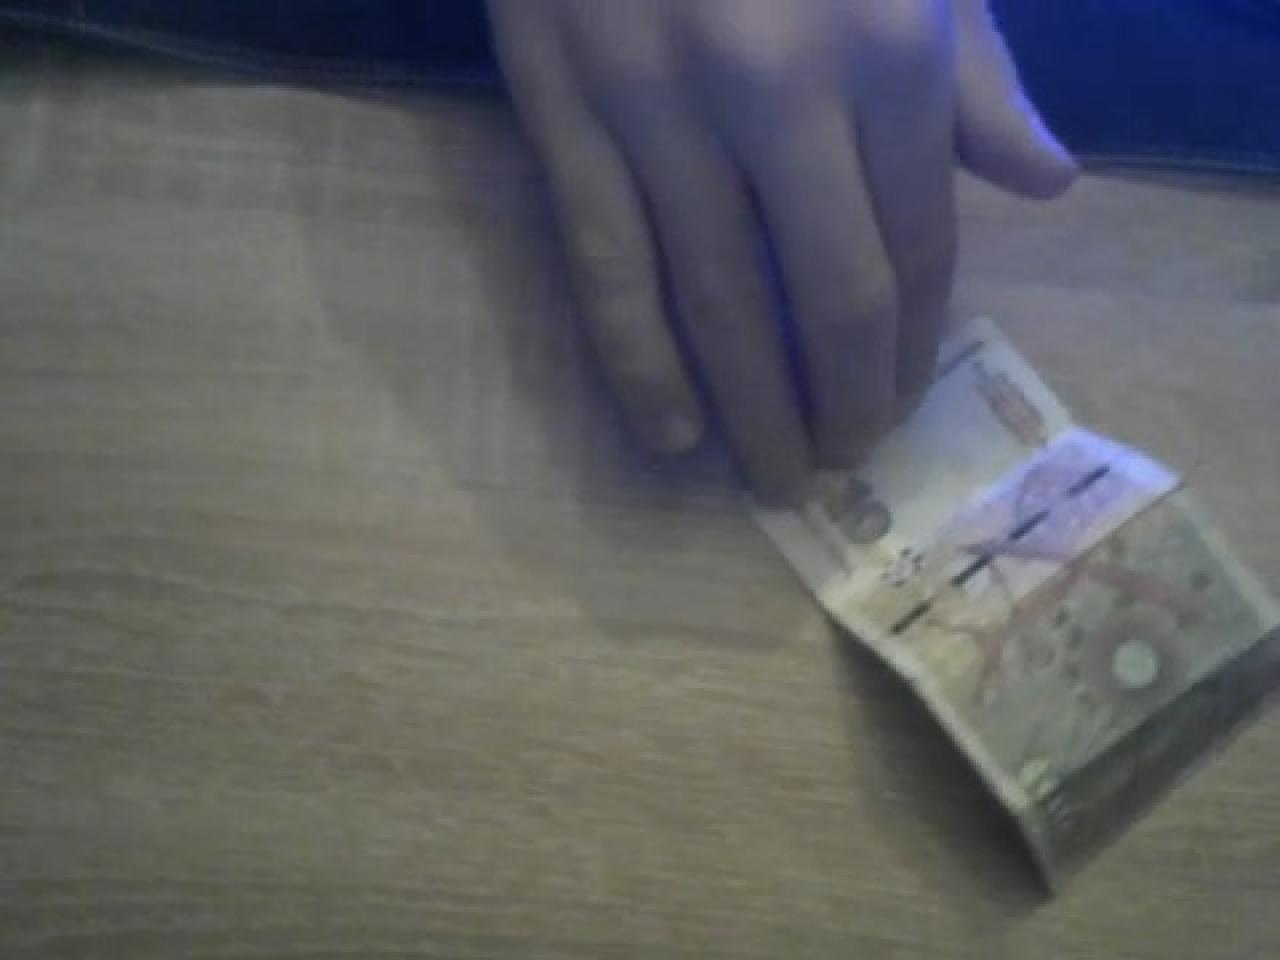10leva: (747, 320, 1280, 901)
